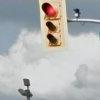Traffic light: (38, 0, 72, 55)
